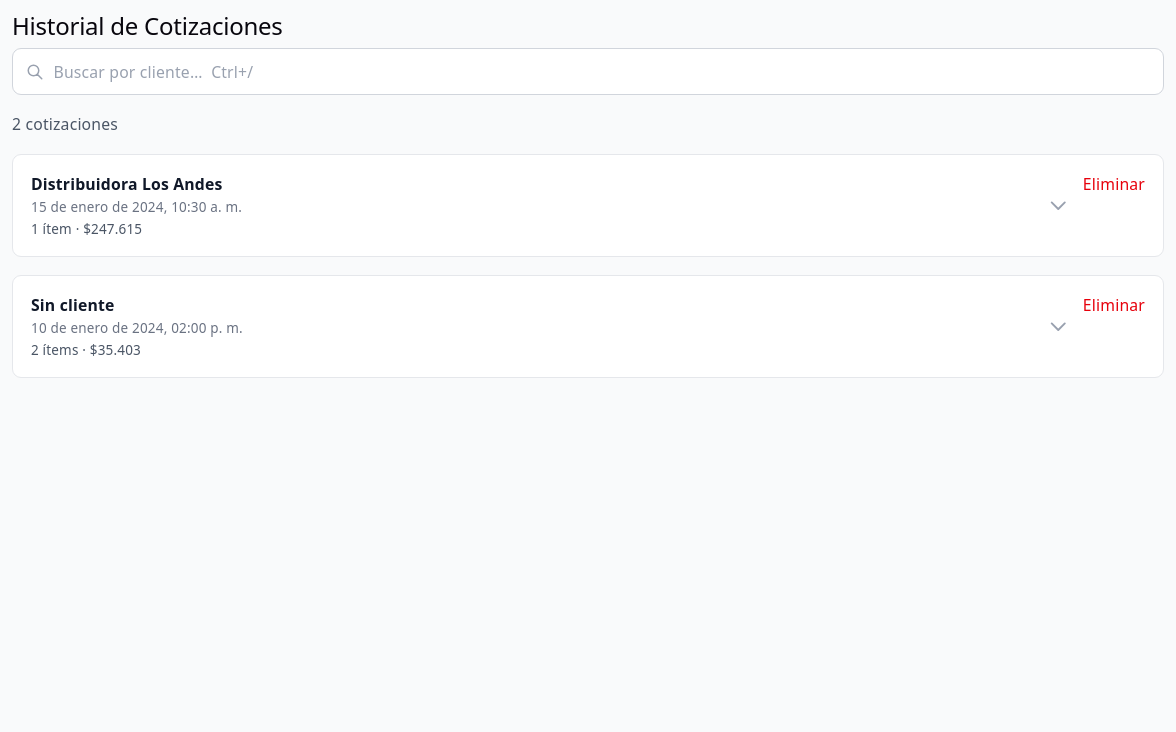
Test: QuoteHistory › with quotes › should show item names for each quote when expanded
Expected: the text "15 de enero de 2024, 10:30 a. m." is shown, [31,198,242,216]
Expected: the text "ALMENDRA LAMINADA" is not shown
Click the button "Distribuidora Los Andes": (127, 184) [31,173,1069,238]
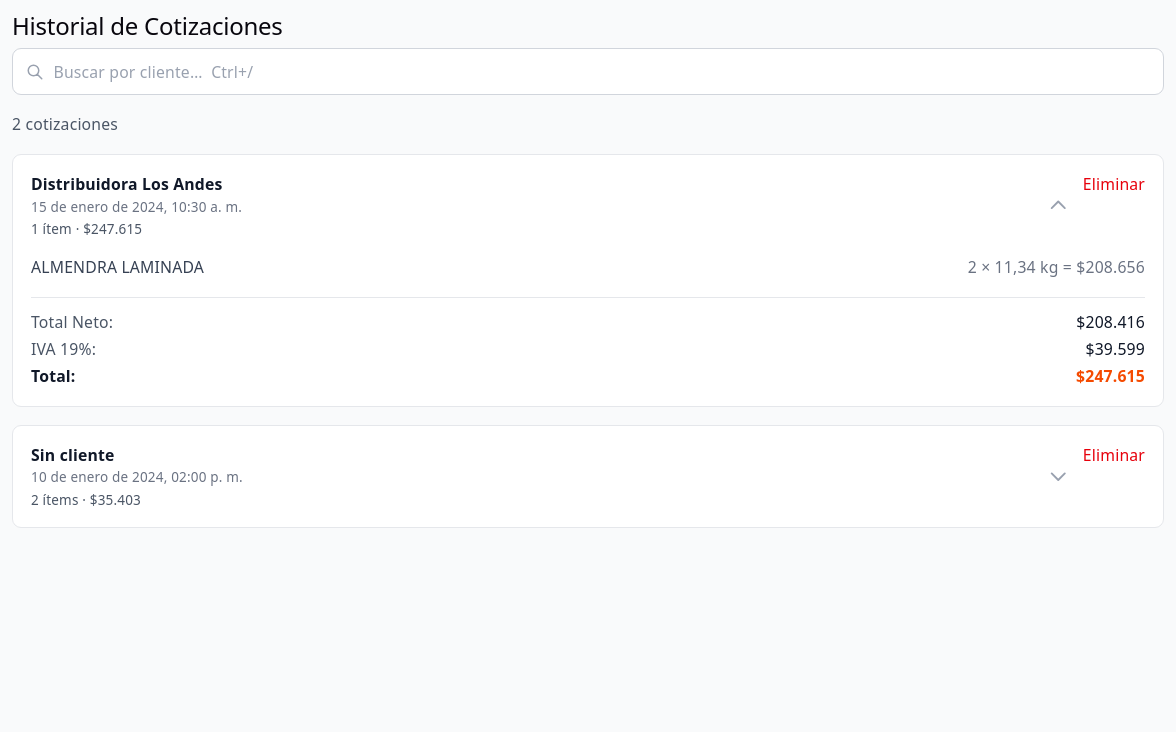
Click the button "Sin cliente": (73, 455) [31,444,1069,509]
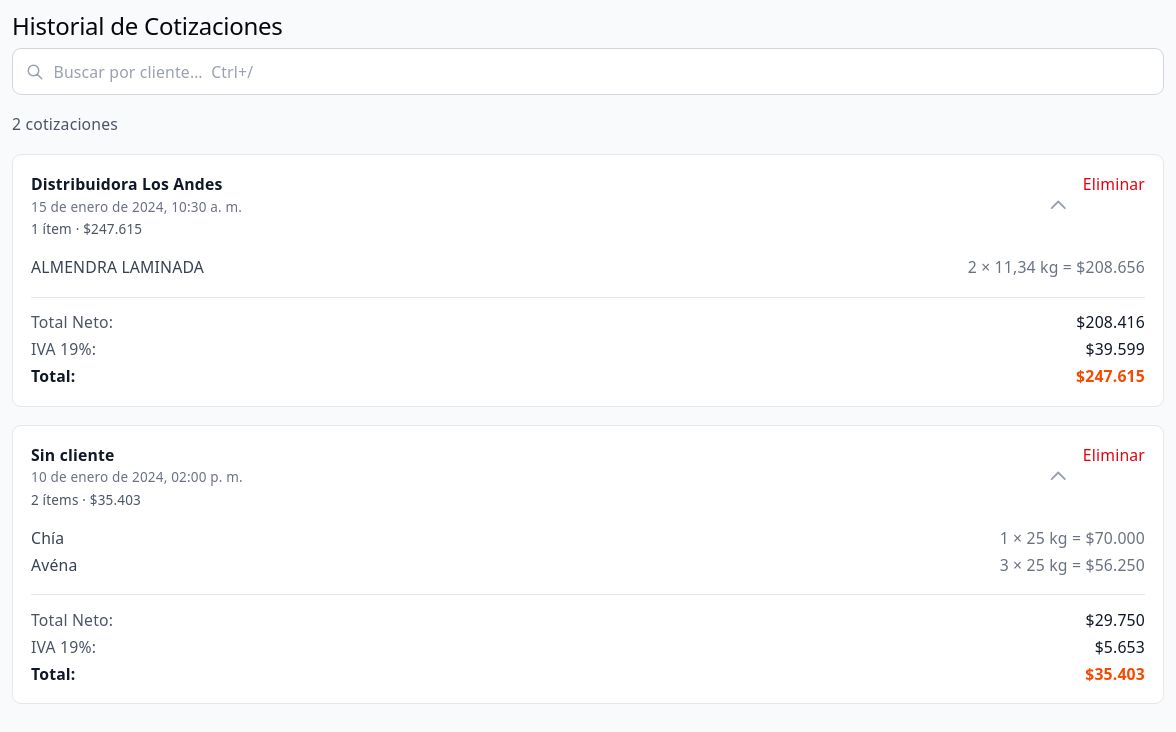
Expected: the text "ALMENDRA LAMINADA" is shown, [31,256,204,278]
Expected: the text "Chía" is shown, [31,527,64,549]
Expected: the text "Avéna" is shown, [31,554,77,576]
